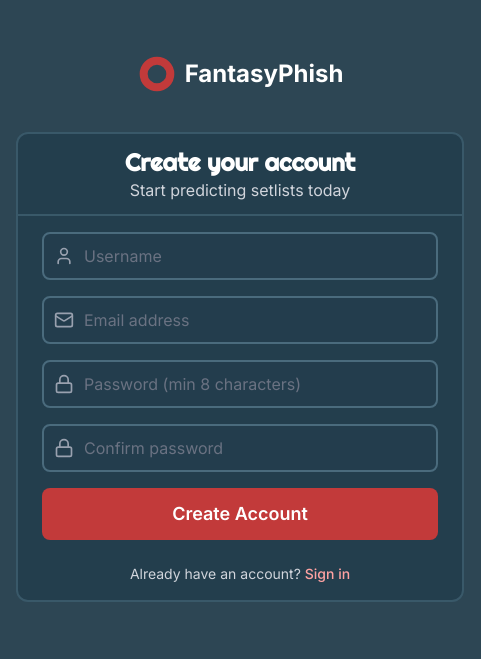
Test: RegisterClient › validates {"username":"ab"}
In the field labelled "Username": point(240, 256) top-left (42, 232), bottom-right (438, 280), type "ab"
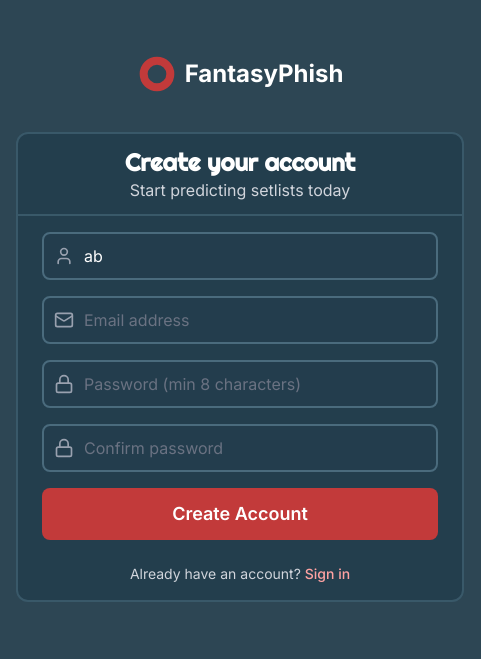
In the field labelled "Email address": point(240, 320) top-left (42, 296), bottom-right (438, 344), type "a@b.com"
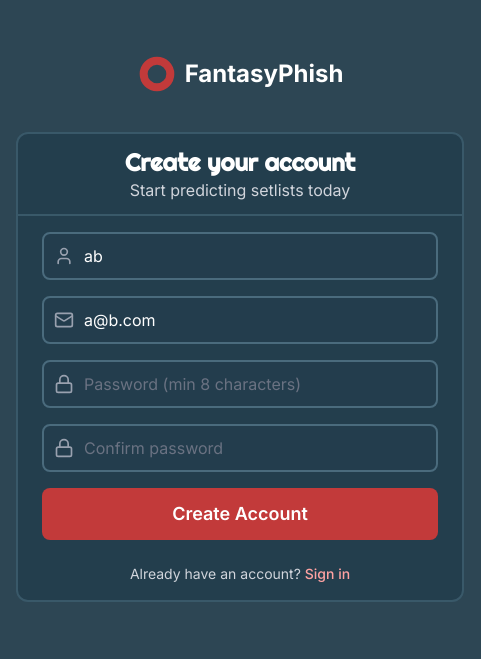
In the password field named "Password (minimum 8 characters)": point(240, 384) top-left (42, 360), bottom-right (438, 408), type "password1"
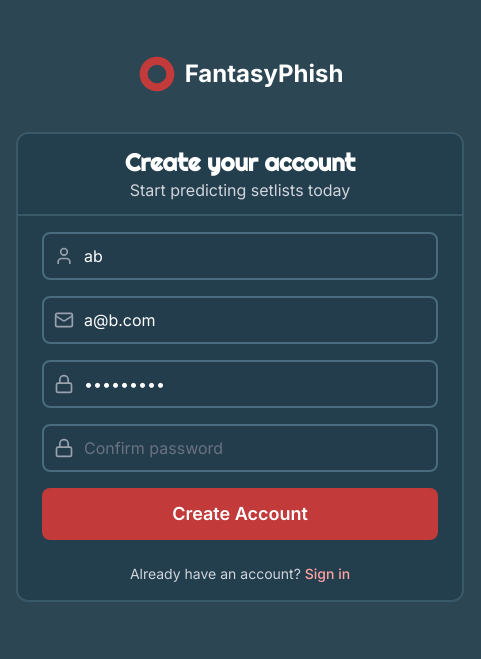
In the password field labelled "Confirm password": point(240, 448) top-left (42, 424), bottom-right (438, 472), type "password1"
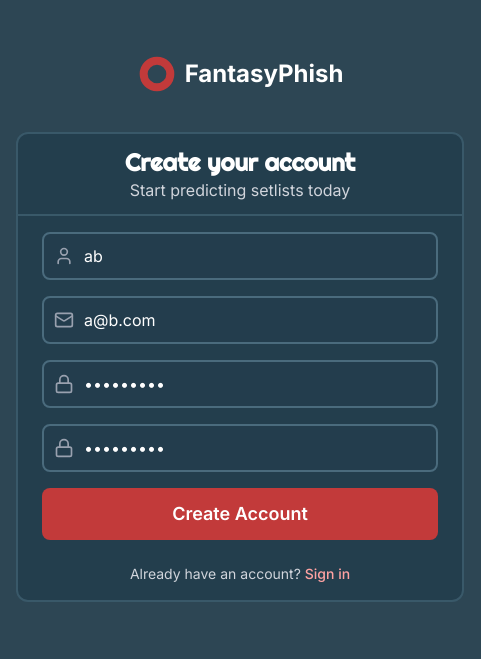
Click the button "Create Account": point(240, 514) top-left (42, 488), bottom-right (438, 540)
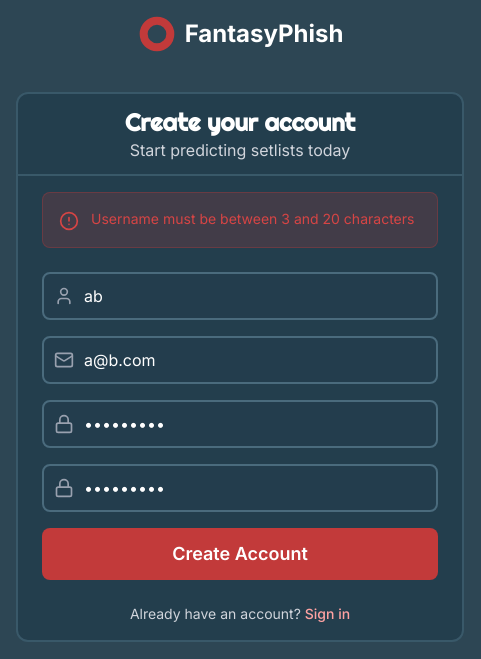
Now the message reads "Username must be between 3 and 20 characters", box top-left (91, 210), bottom-right (414, 227)
